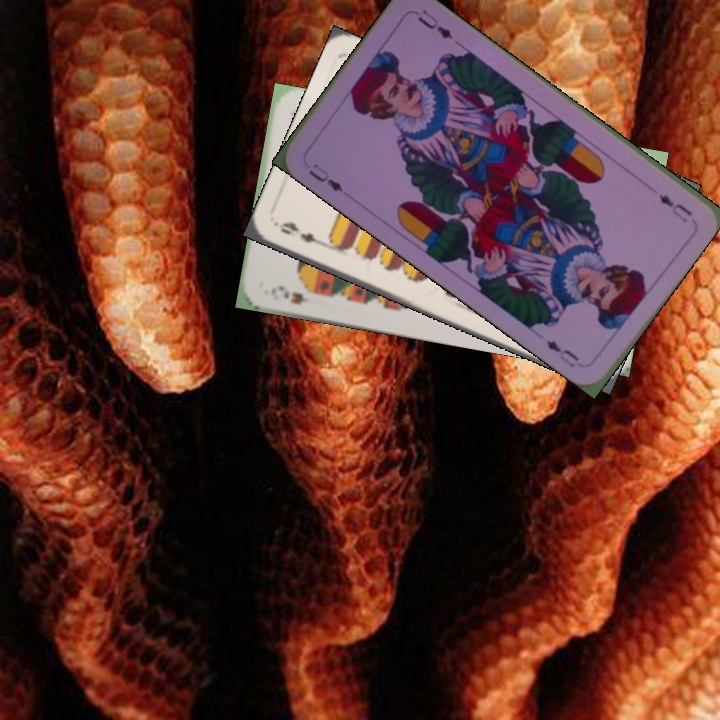E9: (275, 217, 332, 250)
EU: (304, 159, 346, 195), (654, 190, 695, 225)
S9: (267, 281, 312, 307)
